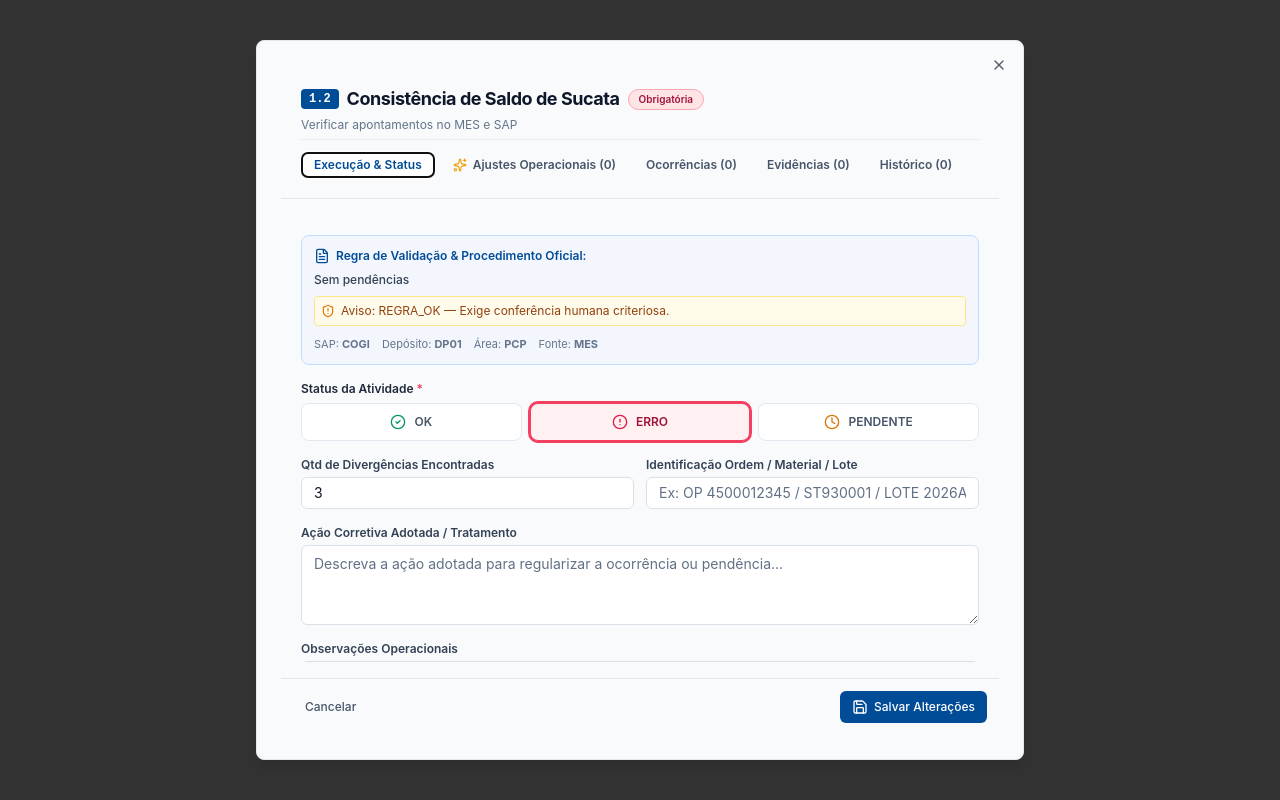
Test: Check-list Fechamento — Ajuste Operacional (Interface Etapa 2) › 5. Detalhe da atividade contém a aba de Ajustes Operacionais Vinculados com tabela estruturada
Click the button "Ajustes Operacionais (0)" at {"x": 534, "y": 165}, box x1=441 y1=153 x2=628 y2=177
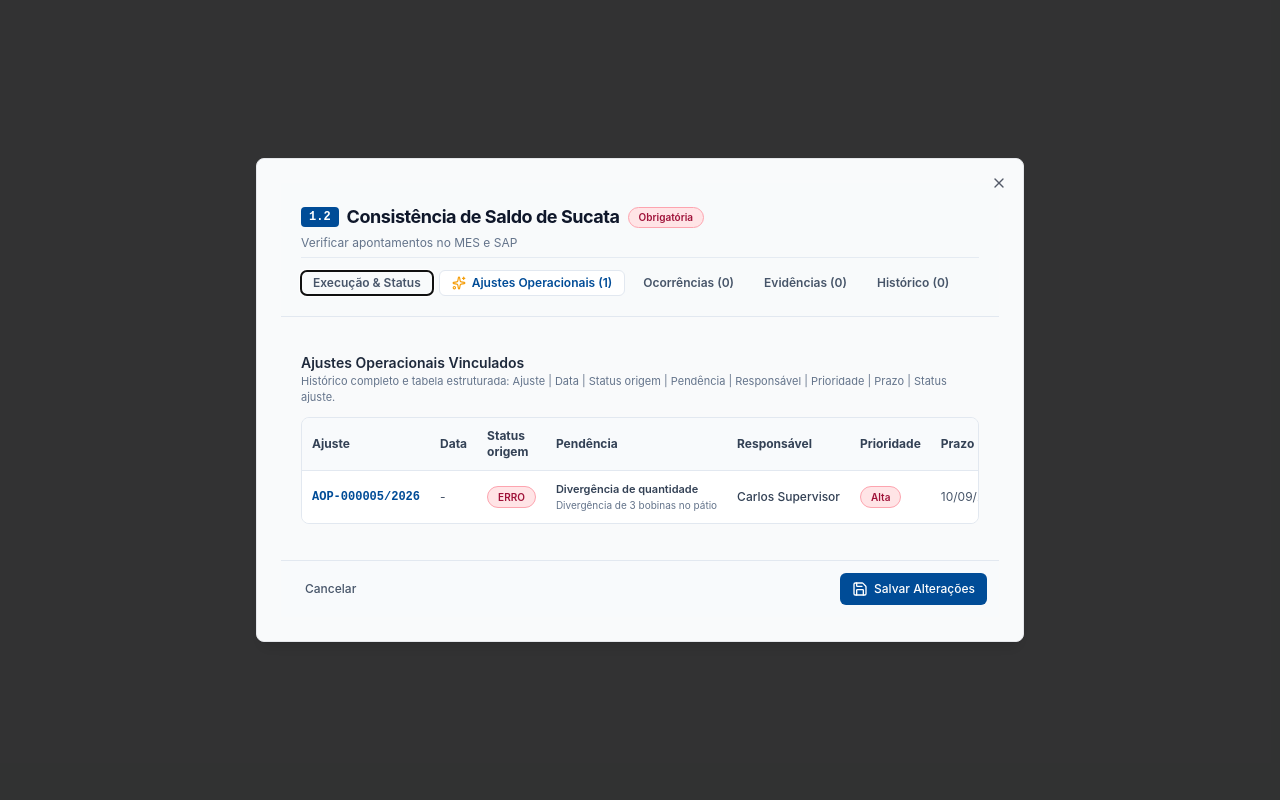
Expected: the text "AOP-000005/2026" is shown, x1=302 y1=470 x2=430 y2=523
Expected: the text "Carlos Supervisor" is shown, x1=727 y1=470 x2=850 y2=523
Expected: the text "Divergência de 3 bobinas no pátio" is shown, x1=556 y1=497 x2=717 y2=513
